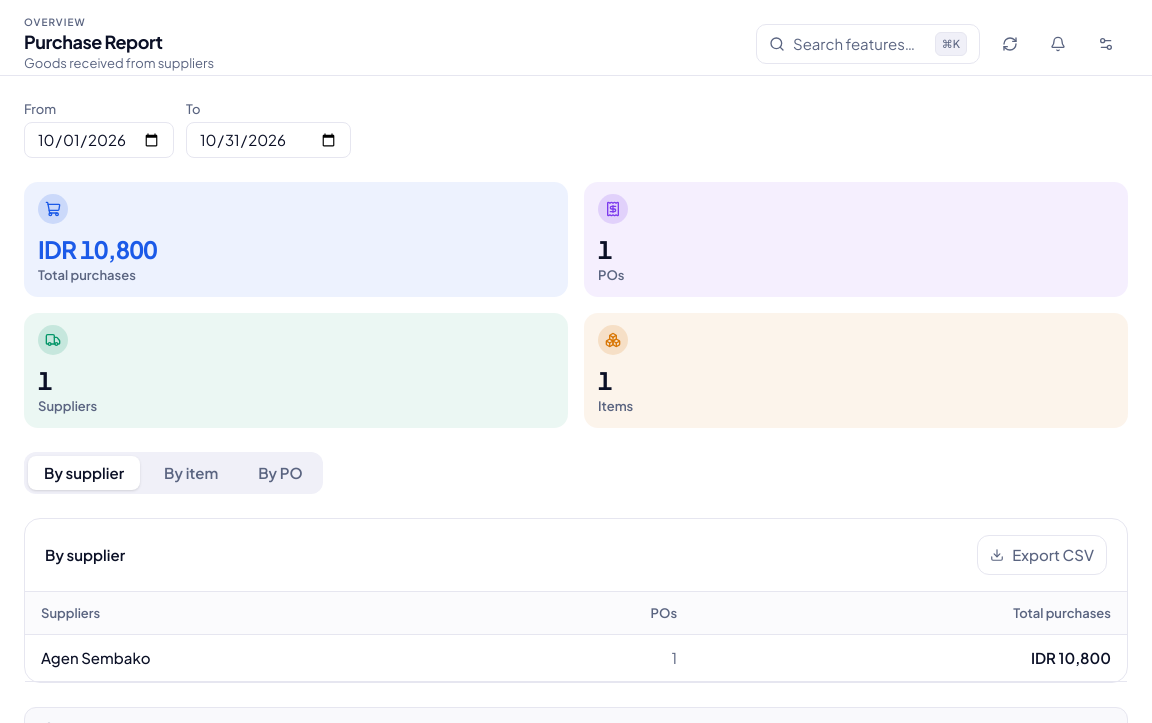
Scenario: smoke halaman baru › PurchaseReportPage: ringkasan, tab per barang, dan status bayar per PO
What coordinates should you click on to do the following:
click the tab "By item"
I would click on:
 (191, 473)
Its box is 148,456 -> 234,490.
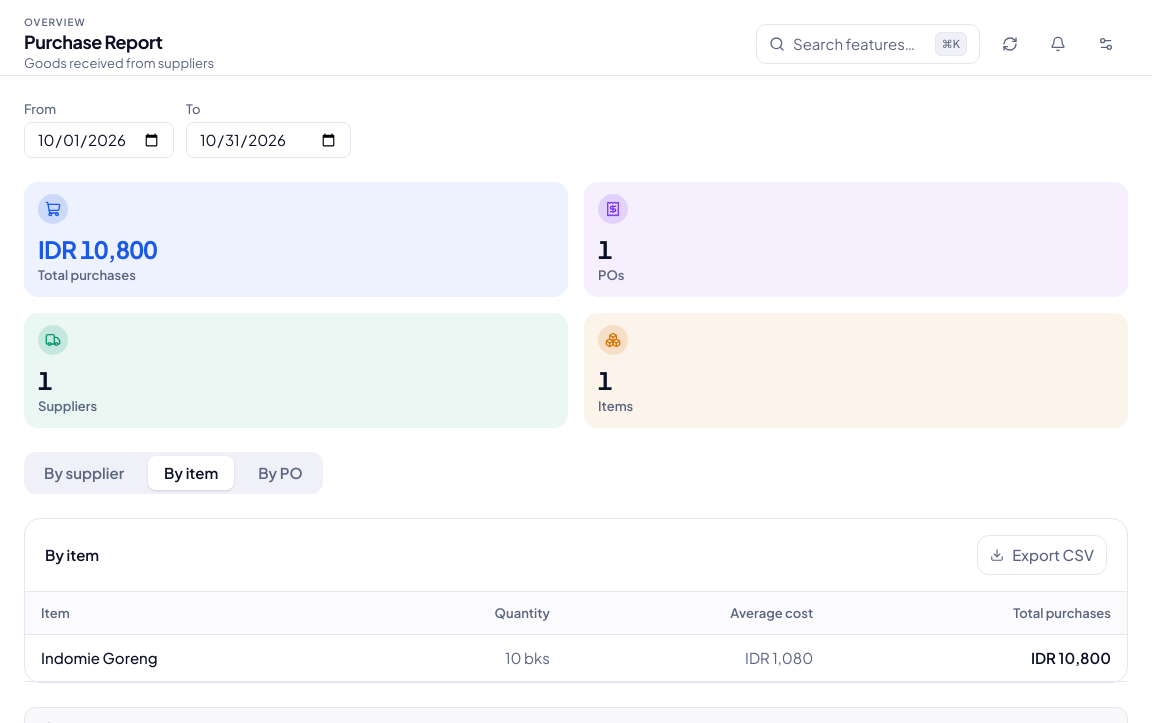
Check: the text "Indomie Goreng" is shown, box 41,648 -> 158,667
What coordinates should you click on to do the following:
click the tab "By PO"
I would click on:
 (280, 473)
Its box is 242,456 -> 319,490.
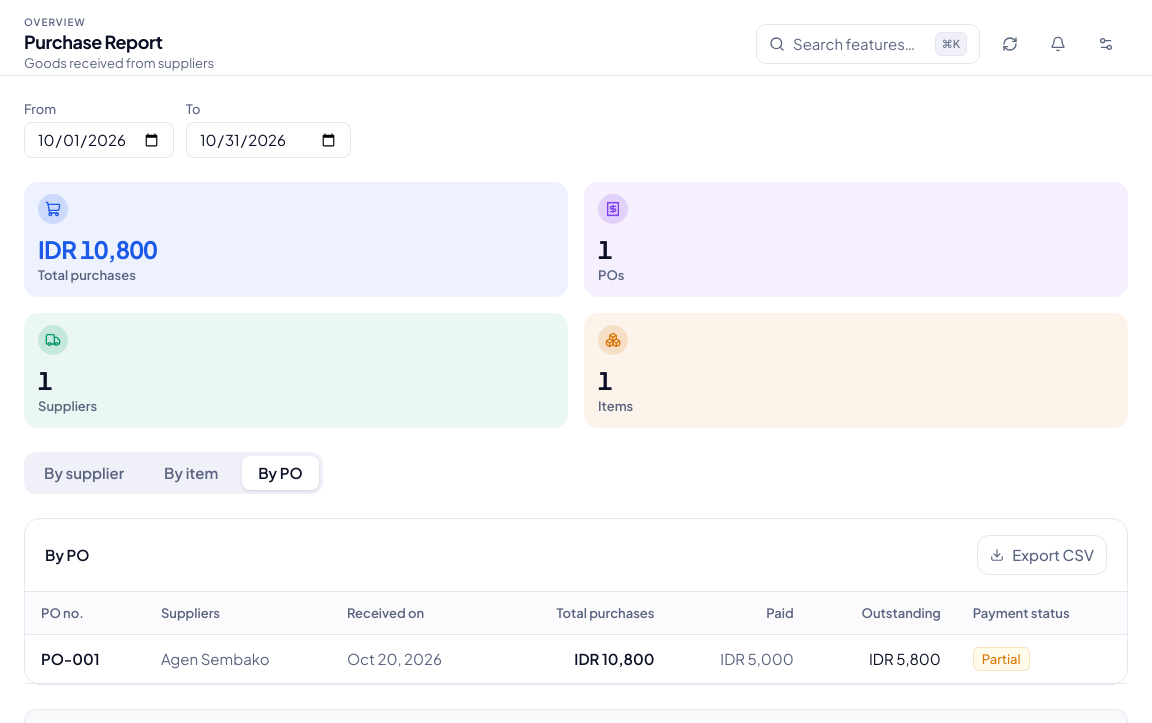
Check: the text "PO-001" is shown, box 41,649 -> 100,668
Check: the text "Partial" is shown, box 973,647 -> 1030,671
